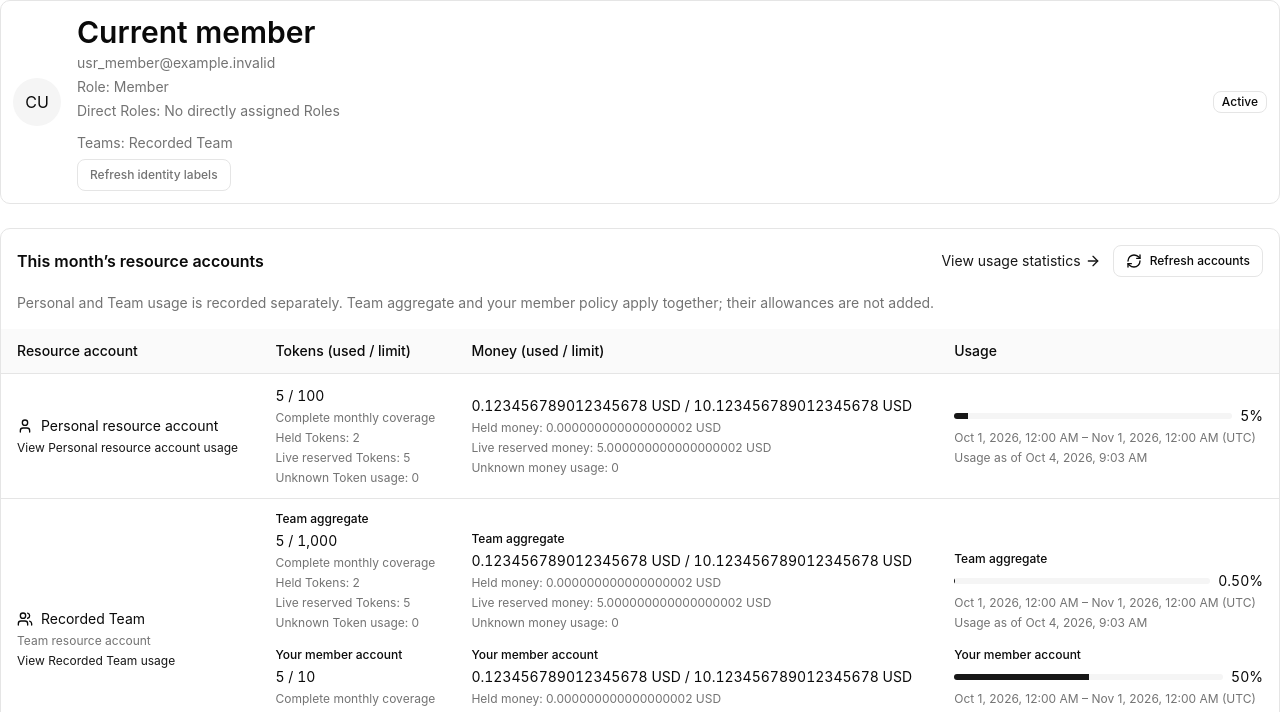
Scenario: monthly member Overview › hides old accounts during renewed reads and HTTP403 errors with explicit retry
Click the button "Refresh accounts" at (1188, 261), box [1113, 245, 1263, 277]
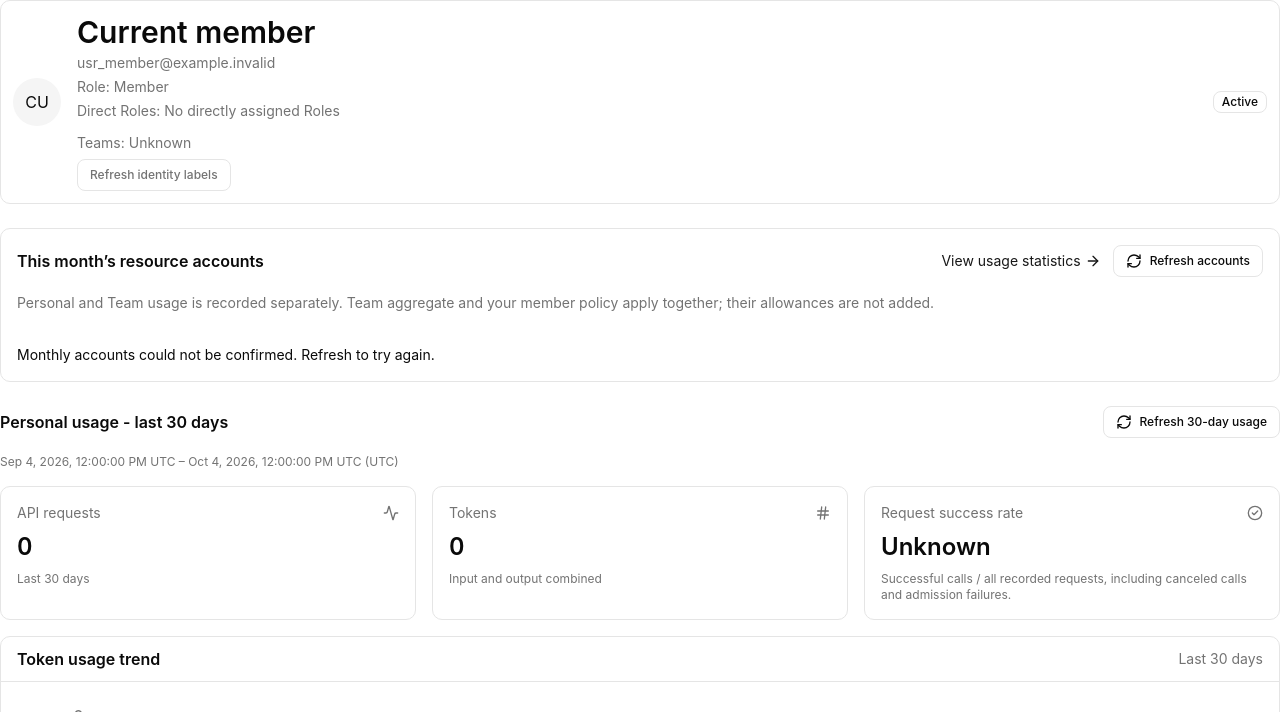
expect the text "Recorded Team" is gone: met
expect the text "Monthly accounts could not be confirmed" is shown: met, box [17, 346, 435, 363]
Click the button "Refresh accounts" at (1188, 261), box [1113, 245, 1263, 277]
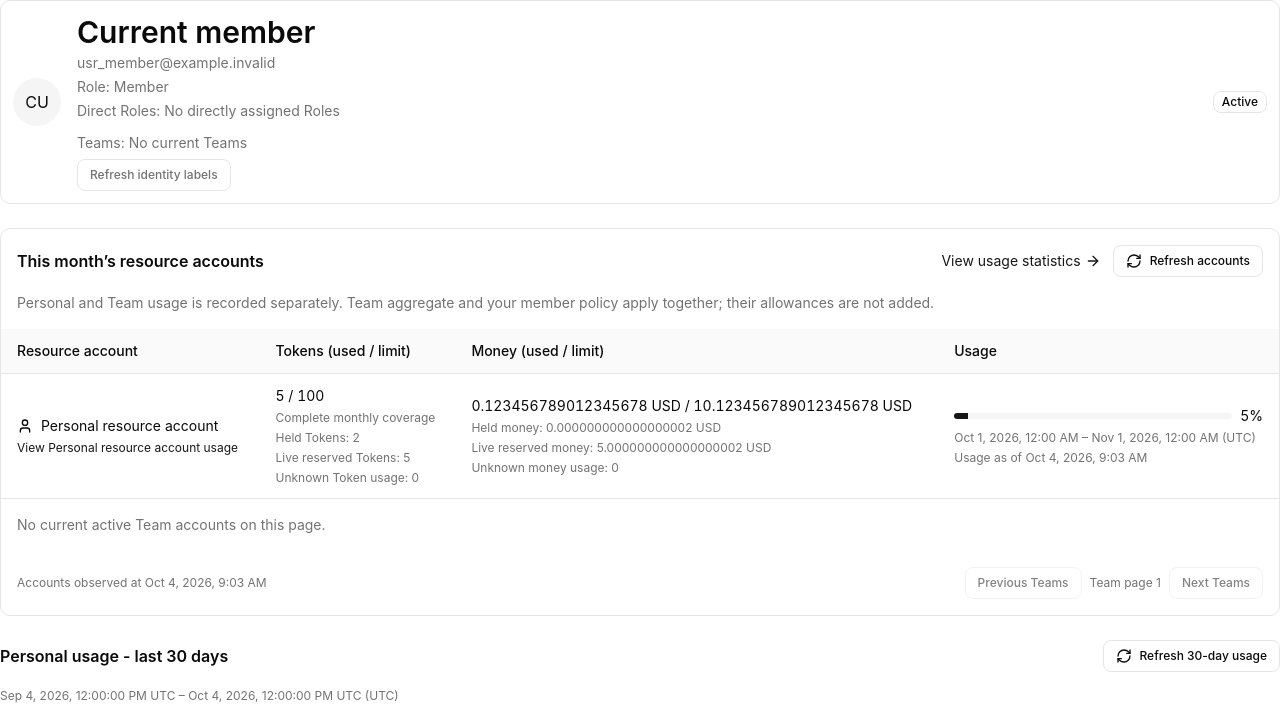
expect the text "No current active Team accounts" is shown: met, box [17, 516, 326, 533]
